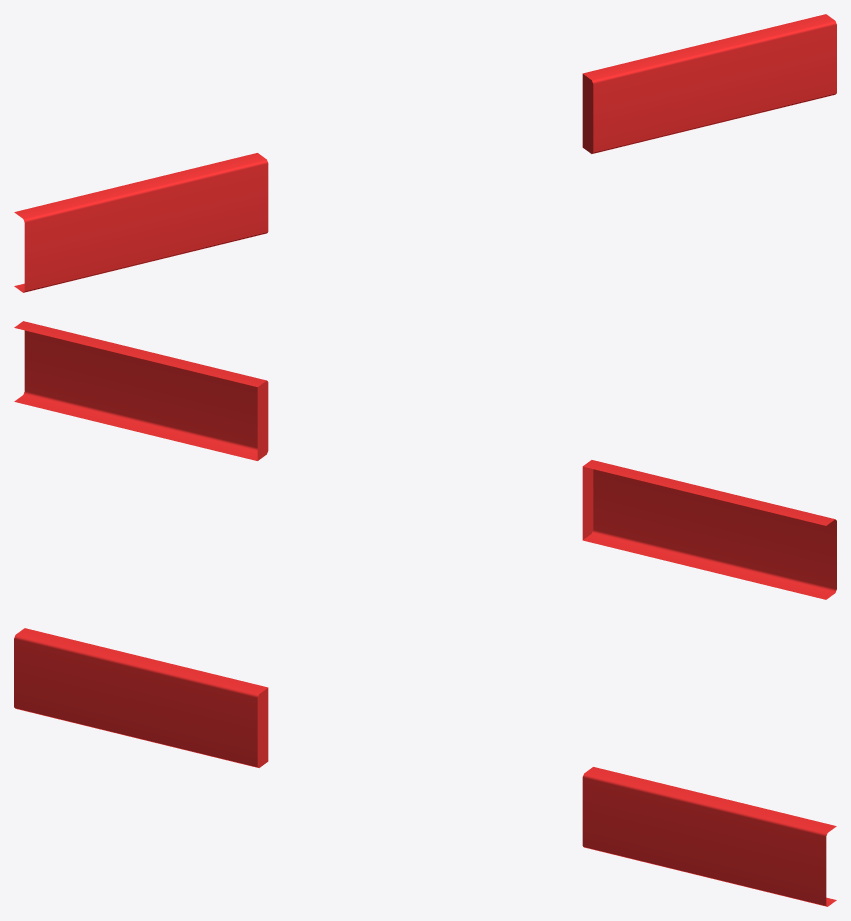
The model's file is DBK_Trim_Brick_Door.fbx.
The picture shows the model from 3 angles, top to bottom: view 1: azimuth 30°, elevation 25°; view 2: azimuth 150°, elevation 25°; view 3: azimuth 330°, elevation 25°; orthographic projection.
Visible parts, largest first — view 1: DBK_Trim_Brick_Door; view 2: DBK_Trim_Brick_Door; view 3: DBK_Trim_Brick_Door.
Boxes of the visible parts, x1,y1,x2,y2 form: DBK_Trim_Brick_Door: (14, 14, 836, 292); DBK_Trim_Brick_Door: (14, 321, 836, 599); DBK_Trim_Brick_Door: (14, 628, 836, 906).
Size of the model in its own units: 300 by 26.11 by 6.92.
